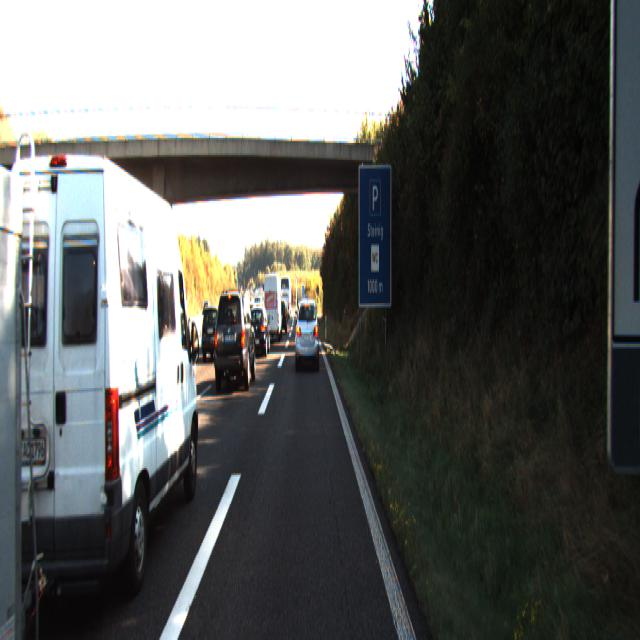Car: (0, 147, 204, 629), (0, 121, 59, 638), (213, 288, 256, 392), (203, 307, 233, 365), (295, 296, 319, 368), (262, 272, 282, 342), (248, 303, 270, 356)
